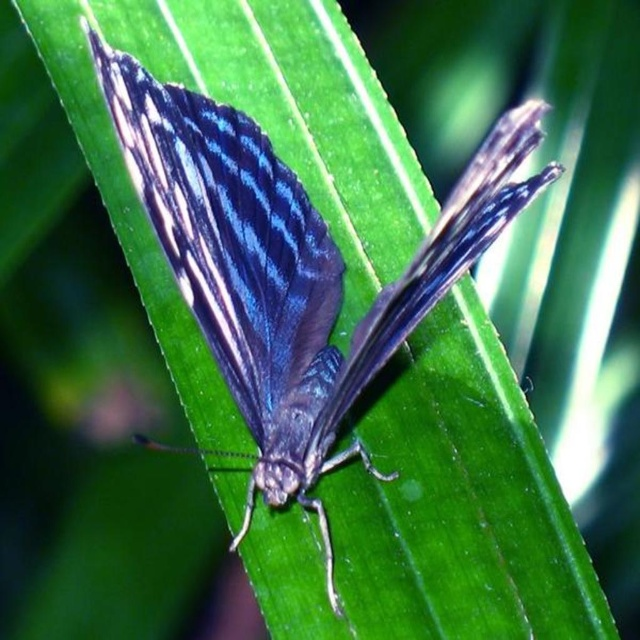Butterfly: (130, 21, 531, 599)
